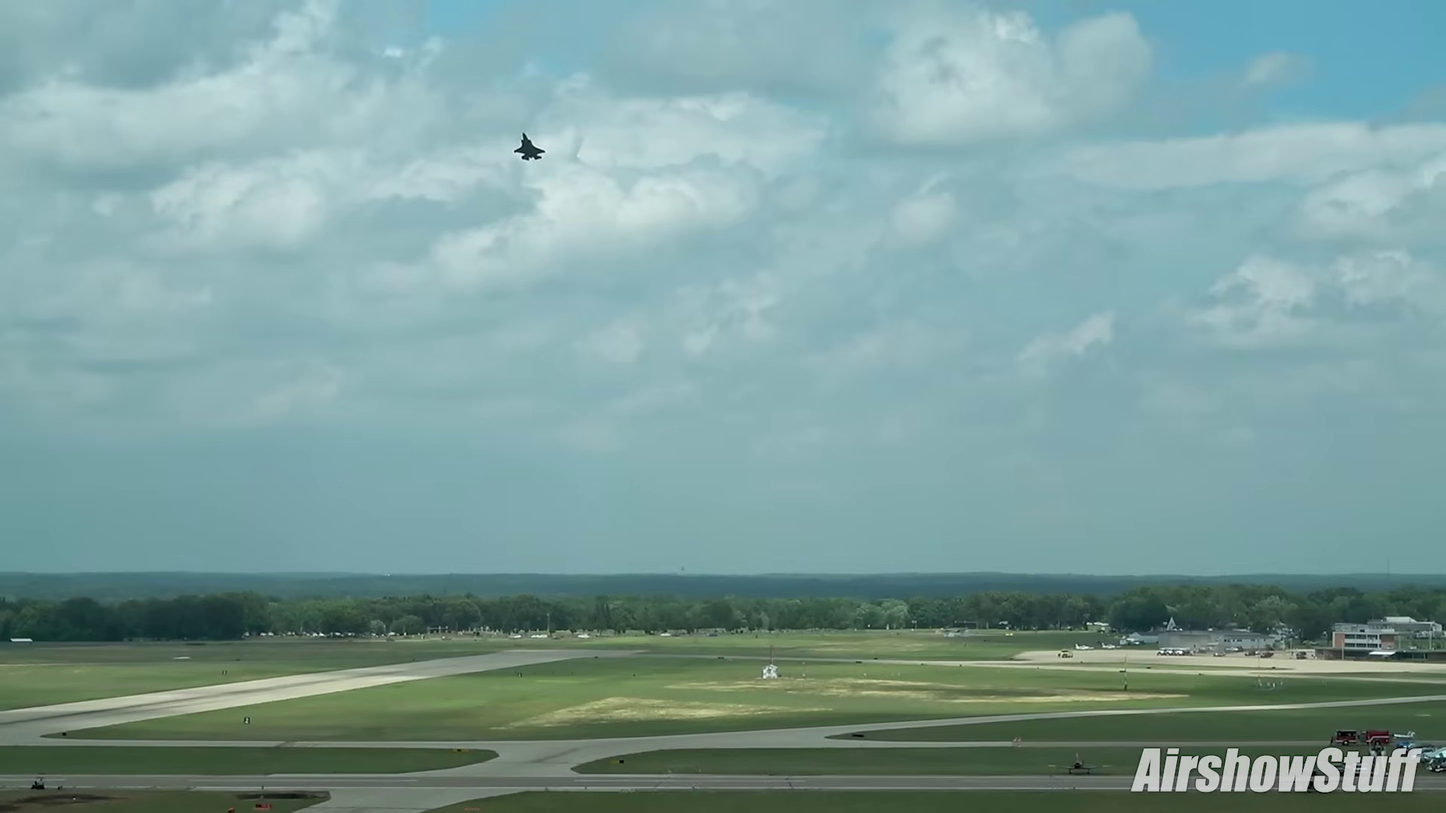F35: (511, 130, 547, 164)
